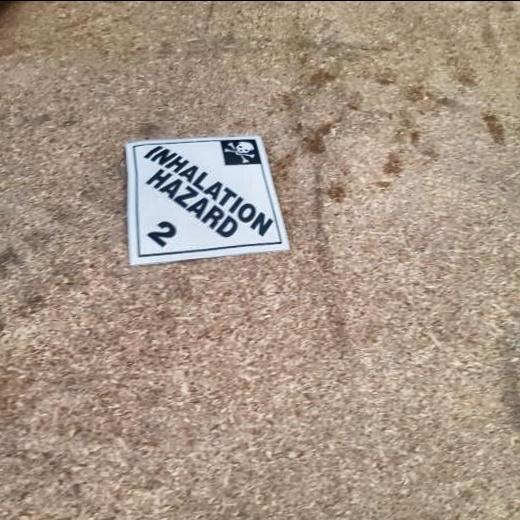poison: (118, 134, 293, 267)
